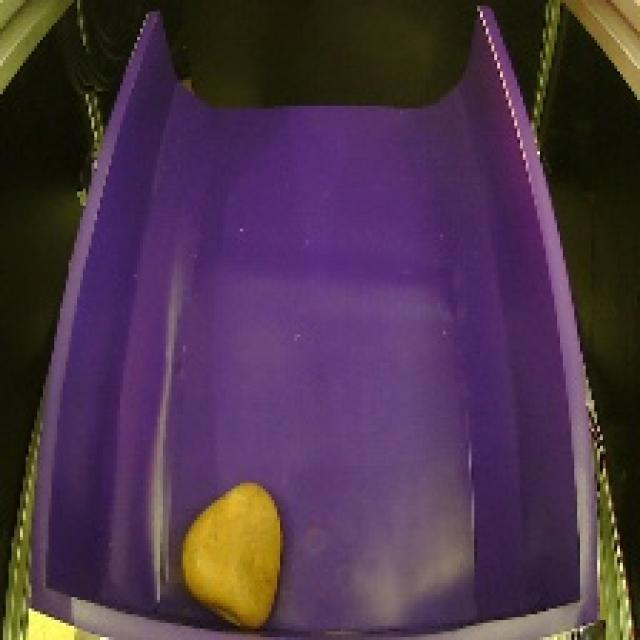cobbles: (172, 470, 294, 634)
